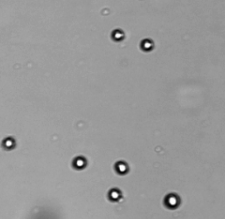Living Cell: (163, 190, 182, 210), (70, 153, 88, 172), (113, 158, 131, 176), (106, 187, 124, 203), (1, 136, 18, 151), (139, 37, 156, 52), (110, 27, 126, 42)
